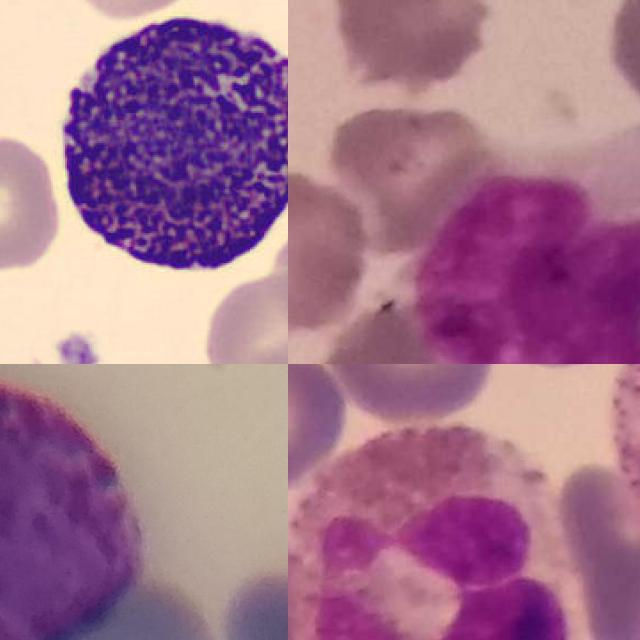Basophil: (42, 0, 288, 289), (0, 380, 146, 640)
Eosinophil: (288, 425, 588, 640)
Monocyte: (405, 172, 640, 364)
Platelets: (53, 325, 97, 364)
RBC: (0, 130, 65, 275), (198, 268, 288, 364)
